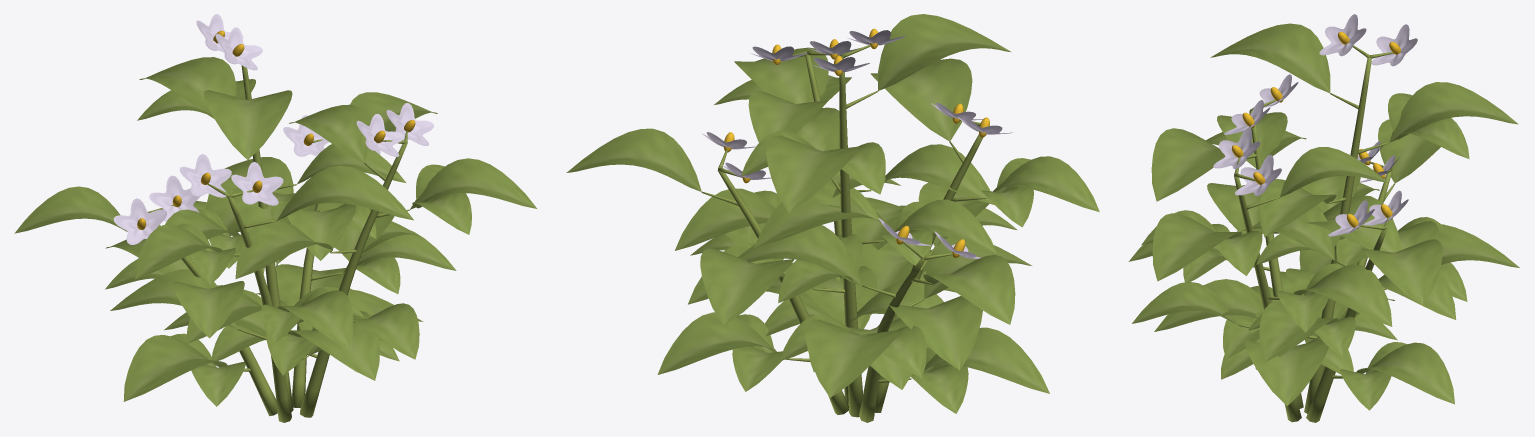
The model's file is potato_mature.glb.
The picture shows the model from 3 angles, left to right: view 1: azimuth 30°, elevation 25°; view 2: azimuth 150°, elevation 25°; view 3: azimuth 270°, elevation 25°; orthographic projection. The views are drawn at different scales.
Parts seen in each view (by area): view 1: leaves, flowers, stems; view 2: leaves, stems, flowers; view 3: leaves, flowers, stems.
Part boxes in pixels (box(x1,y1,x2,y2)): leaves: box(14, 57, 537, 406); flowers: box(113, 14, 433, 244); stems: box(148, 65, 409, 422); leaves: box(566, 14, 1099, 413); stems: box(701, 45, 986, 422); flowers: box(702, 28, 1012, 259); leaves: box(1128, 23, 1519, 410); flowers: box(1213, 14, 1417, 236); stems: box(1234, 45, 1395, 422).
Bounding box in the file's own units: 0.927 × 0.8087 × 0.762.
